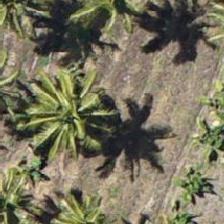coconut_tree: (22, 74, 112, 164), (0, 157, 49, 223)
